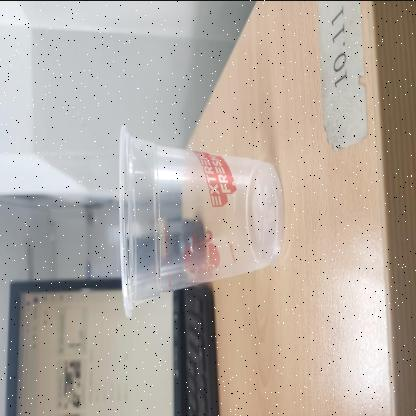Others: (118, 123, 282, 319)
